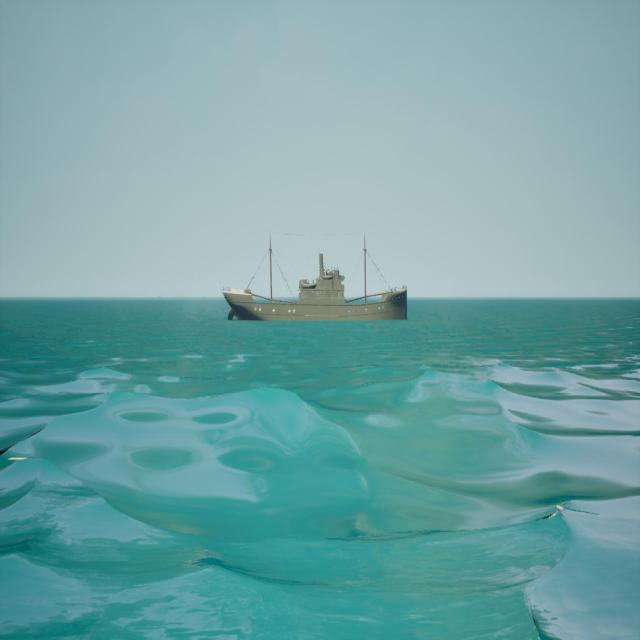fishing ship: (225, 232, 408, 324)
